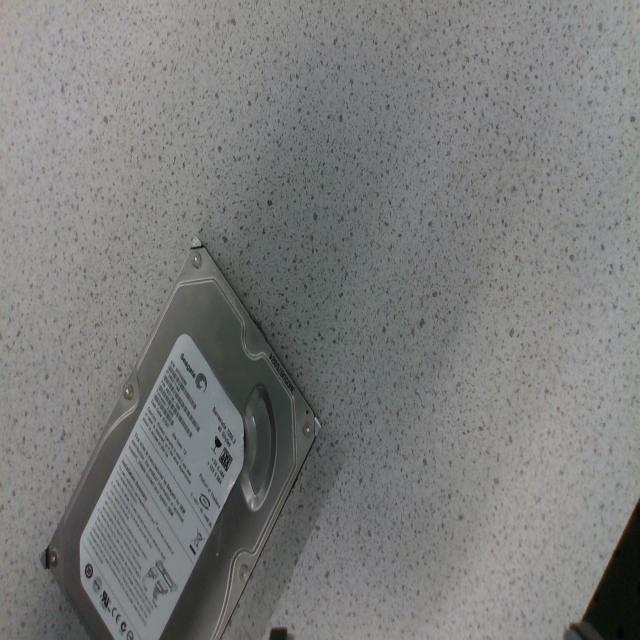label: (80, 334, 244, 639)
lid: (43, 238, 320, 639)
screw: (46, 546, 58, 568), (238, 564, 250, 580), (122, 384, 133, 399), (192, 252, 201, 267), (303, 421, 312, 436)
